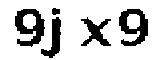9: (115, 7, 153, 51), (11, 6, 47, 49)
j: (45, 5, 68, 60)
x: (81, 15, 112, 51)
